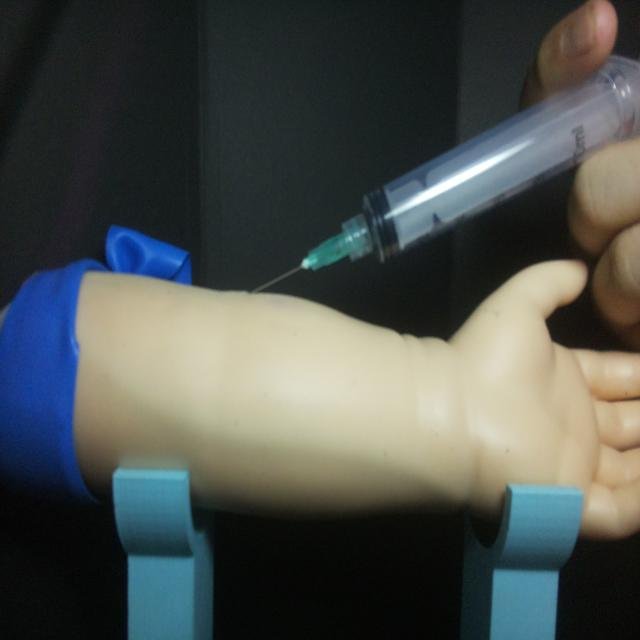17deg: (245, 51, 638, 296)
